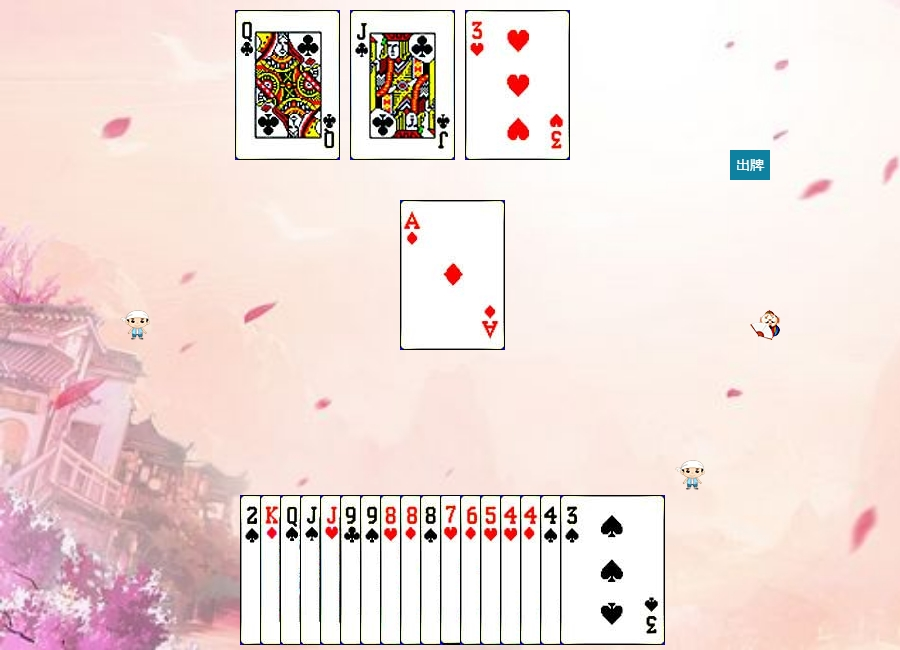11~2: (350, 10, 455, 160)
11~3: (320, 495, 425, 645)
11~4: (300, 495, 405, 645)
12~2: (235, 10, 340, 160)
12~4: (280, 495, 385, 645)
13~1: (260, 495, 365, 645)
14~1: (400, 200, 505, 350)
15~4: (240, 495, 345, 645)
3~3: (465, 10, 570, 160)
3~4: (560, 495, 665, 645)
4~1: (520, 495, 625, 645)
4~3: (500, 495, 605, 645)
4~4: (540, 495, 645, 645)
5~3: (480, 495, 585, 645)
6~1: (460, 495, 565, 645)
7~3: (440, 495, 545, 645)
8~1: (400, 495, 505, 645)
8~3: (380, 495, 485, 645)
8~4: (420, 495, 525, 645)
9~2: (340, 495, 445, 645)
9~4: (360, 495, 465, 645)
